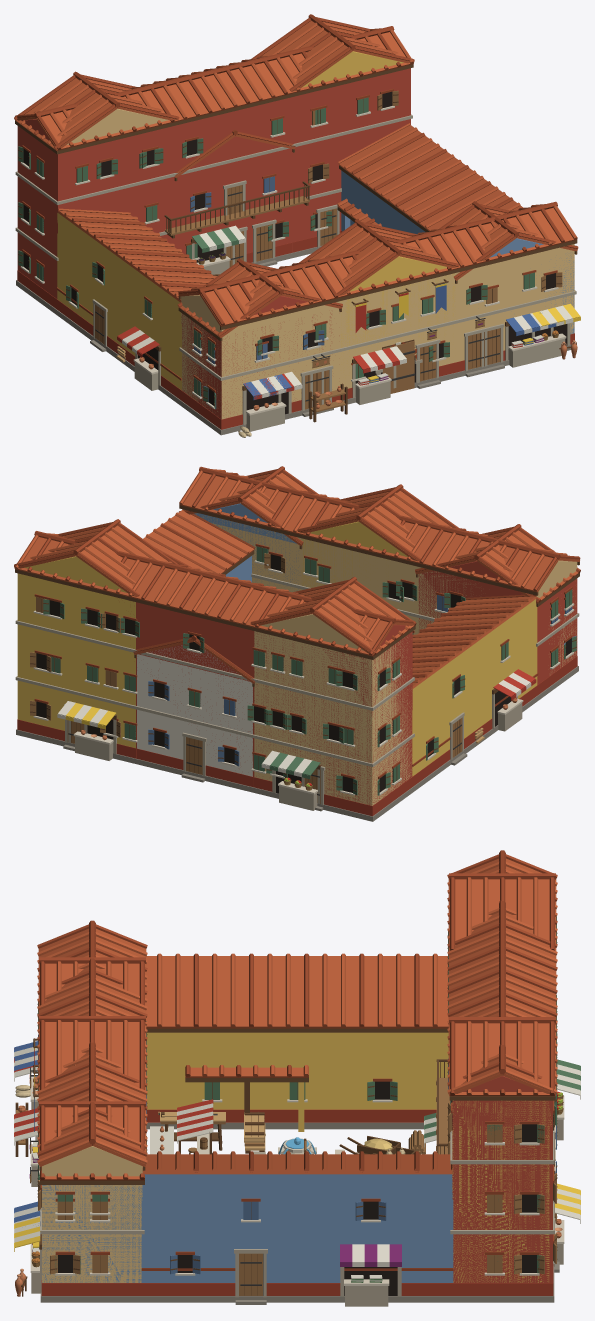
The model's file is Werkstaettenblock.fbx.
3 views of the same model, one above another, from view 1: azimuth 30°, elevation 25°; view 2: azimuth 150°, elevation 25°; view 3: azimuth 270°, elevation 25° (orthographic). The views are drawn at different scales.
Visible parts, largest first — view 1: Werkstaettenblock_0, Werkstaettenblock_1; view 2: Werkstaettenblock_0, Werkstaettenblock_1; view 3: Werkstaettenblock_0, Werkstaettenblock_1.
Part boxes in pixels (box(x1,y1,x2,y2)): Werkstaettenblock_0: box(15, 26, 577, 437); Werkstaettenblock_1: box(14, 14, 580, 435); Werkstaettenblock_0: box(14, 466, 580, 821); Werkstaettenblock_1: box(14, 466, 580, 821); Werkstaettenblock_0: box(14, 850, 580, 1306); Werkstaettenblock_1: box(14, 873, 559, 1302).
Bounding box in the file's own units: 7.33 × 3.59 × 7.33.
